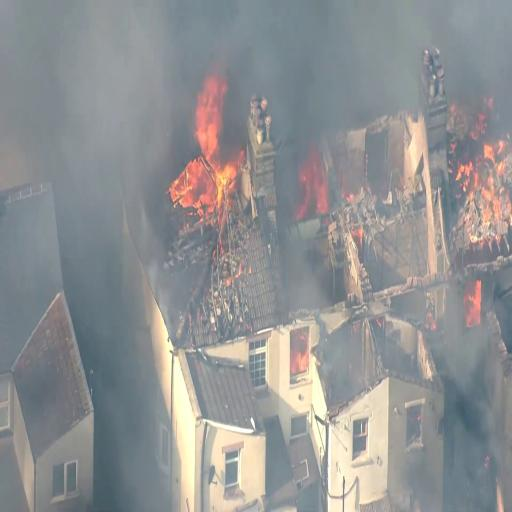fire: (161, 60, 252, 230), (456, 136, 509, 234)
smoke: (21, 0, 145, 174)
